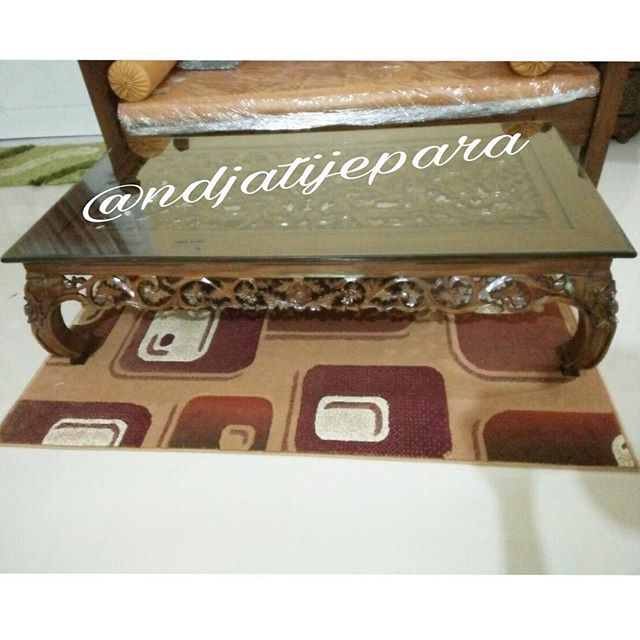Carving Table: (34, 133, 633, 394)
